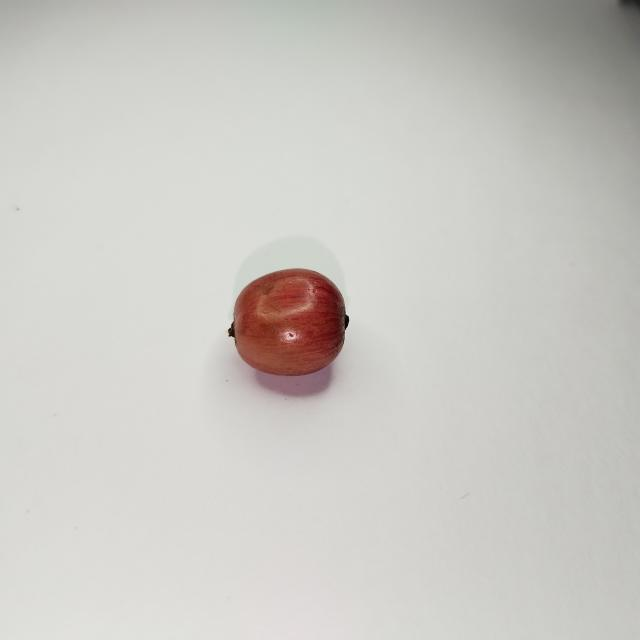Sano: (228, 268, 348, 378)
